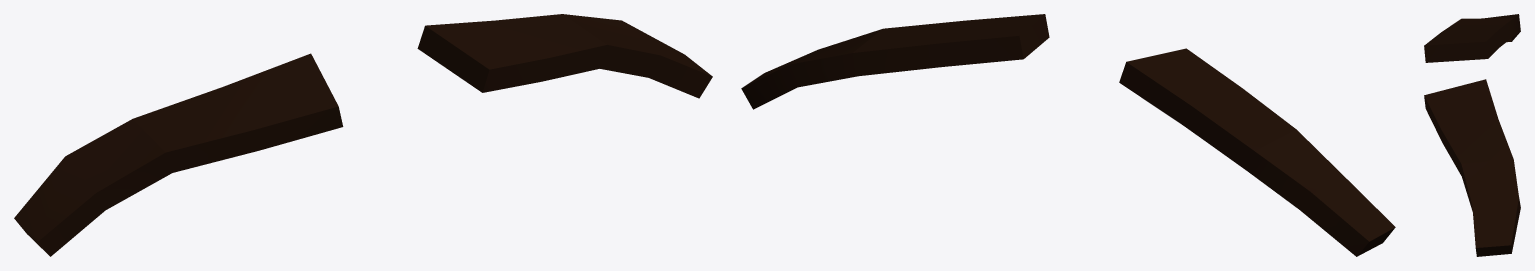
The model's file is Brow 01.FBX.
3 renders of one model, left to right at view 1: azimuth 30°, elevation 25°; view 2: azimuth 150°, elevation 25°; view 3: azimuth 270°, elevation 25°, orthographic. The views are drawn at different scales.
Parts seen in each view (by area): view 1: Brow 01; view 2: Brow 01; view 3: Brow 01.
Part boxes in pixels (bbox=[...]): Brow 01: bbox=[14, 14, 712, 256]; Brow 01: bbox=[741, 14, 1395, 256]; Brow 01: bbox=[1424, 14, 1520, 256].
Size of the model in its own units: 22.36 by 4.13 by 4.22.
